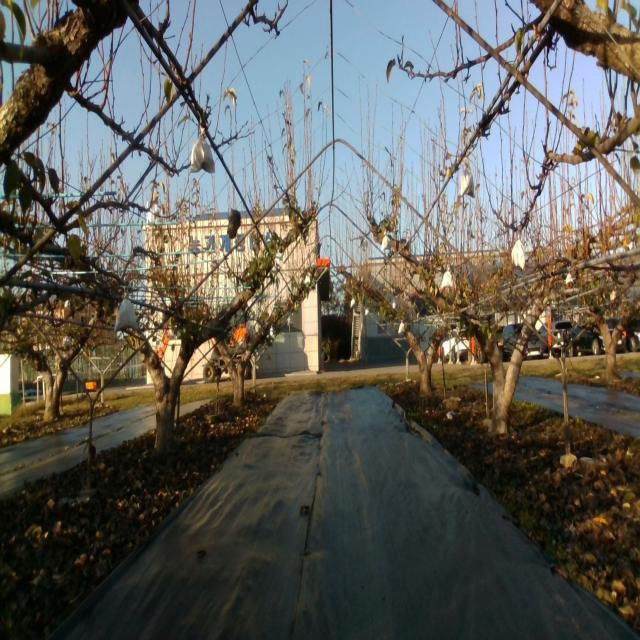pearbags: (190, 125, 217, 176), (114, 295, 138, 334), (511, 242, 527, 272), (461, 165, 475, 198), (442, 264, 454, 289)
